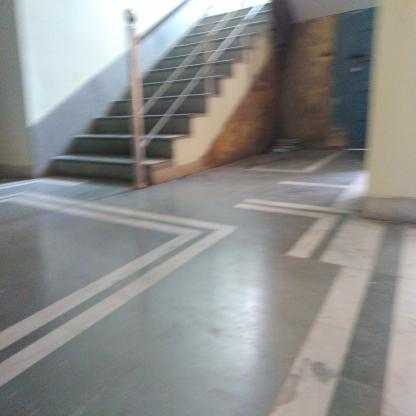stairs: (91, 114, 130, 189)
